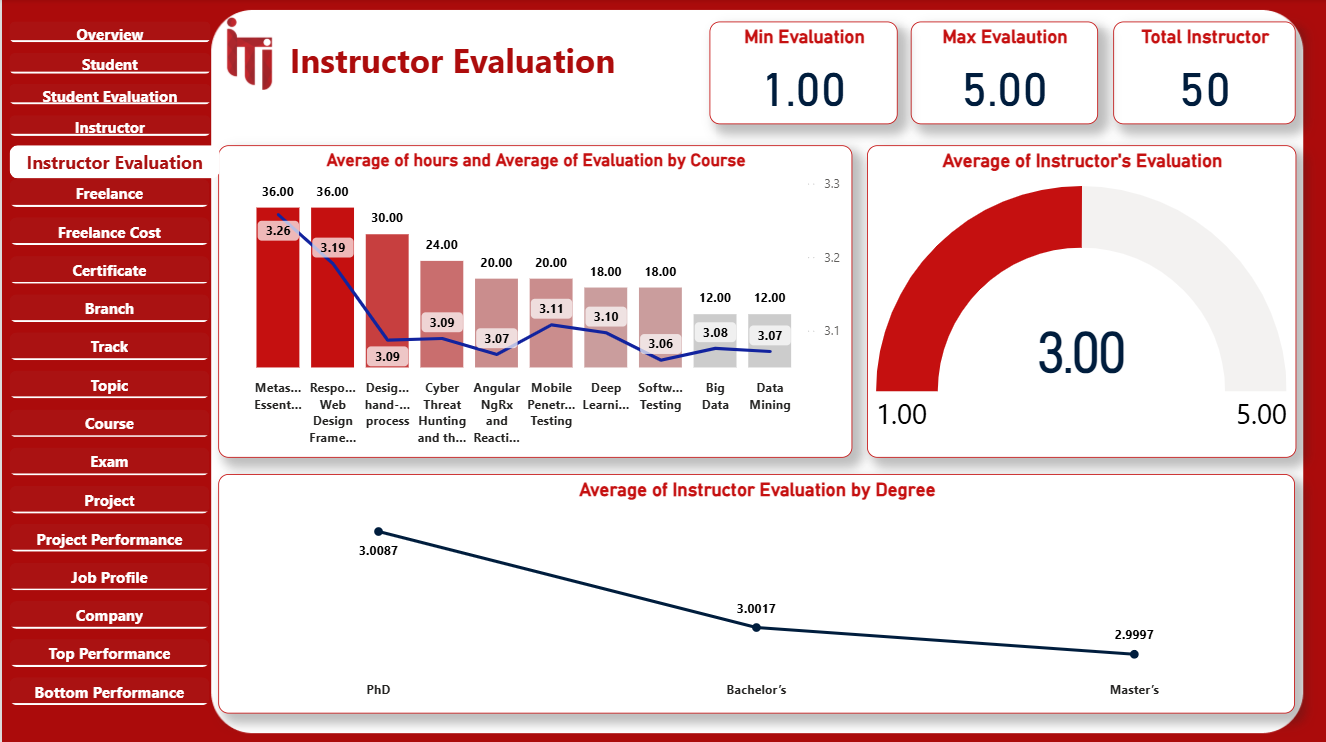

The dashboard page shown, as its layout file describes it:
{"tool":"powerbi","page":{"name":"Instructor Evaluation","canvas":[1280,720],"ordinal":4},"visuals":[{"type":"card","title":"Total Instructor","fields":{"Values":["Measures_.Total Instructors"]},"box":[1072.4,21.7,176.1,99.6],"z":0},{"type":"card","title":"Max Evalaution","fields":{"Values":["Max(Fact_Student_Performance.Instructor Evaluation)"]},"box":[877.6,21.7,180.4,99.6],"z":1000},{"type":"card","title":"Min Evaluation","fields":{"Values":["Min(Fact_Student_Performance.Instructor Evaluation)"]},"box":[682.7,21.7,181.9,99.6],"z":2000},{"type":"lineStackedColumnComboChart","title":"Average of hours and Average of Evaluation by Course","fields":{"Category":["vw_Dim_Course.crs_name"],"Y2":["Avg(Fact_Student_Performance.Instructor Evaluation)"],"Y":["Avg(vw_Dim_Course.hours)"]},"box":[209.3,141.5,612,301.7],"z":3000},{"type":"gauge","title":"Average of Instructor''s Evaluation","fields":{"Y":["Avg(Fact_Student_Performance.Instructor Evaluation)"],"MinValue":["Min(Fact_Student_Performance.Instructor Evaluation)1"],"MaxValue":["Max(Fact_Student_Performance.Instructor Evaluation)2"]},"box":[834.3,141.5,414.3,301.7],"z":4000},{"type":"lineChart","fields":{"Y":["Avg(Fact_Student_Performance.Instructor Evaluation)"],"Category":["Dim_Instructor.Degree"]},"box":[209.3,459,1039.2,230.9],"z":5000},{"type":"textbox","box":[273.1,32.9,366.4,60.4],"z":6000},{"type":"pageNavigator","box":[6.9,22,194.9,113.9],"z":7000},{"type":"pageNavigator","box":[6.9,141.3,203.1,32.9],"z":8000},{"type":"pageNavigator","box":[6.9,174.3,193.5,514.6],"z":9000},{"type":"image","box":[196.2,4.1,86.4,89.2],"z":10000}]}

Visuals, with their boxes on the page's 1280x720 design canvas (x1, y1, x2, y2). These are canvas units, not pixel positions in the 1326x742 screenshot, which may show the page scaled, cropped or inside an application window:
"Total Instructor" card: [1072,22,1248,121]
"Max Evalaution" card: [878,22,1058,121]
"Min Evaluation" card: [683,22,865,121]
"Average of hours and Average of Evaluation by Course" lineStackedColumnComboChart: [209,142,821,443]
"Average of Instructor''s Evaluation" gauge: [834,142,1249,443]
lineChart - Avg(Fact_Student_Performance.Instructor Evaluation) x Dim_Instructor.Degree: [209,459,1248,690]
textbox: [273,33,640,93]
pageNavigator: [7,22,202,136]
pageNavigator: [7,141,210,174]
pageNavigator: [7,174,200,689]
image: [196,4,283,93]
